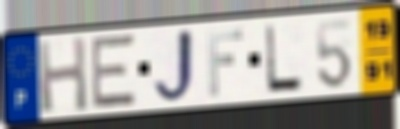5: (314, 16, 355, 90)
E: (90, 32, 138, 112)
F: (205, 27, 246, 99)
H: (35, 33, 91, 116)
J: (150, 26, 199, 107)
L: (262, 22, 306, 94)
